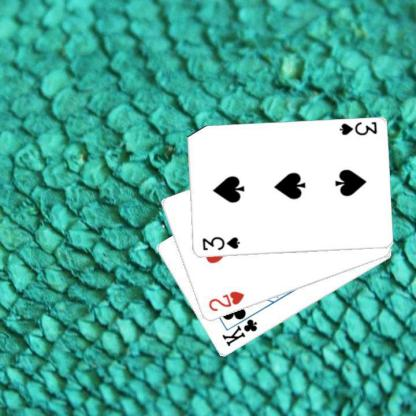2H: (206, 289, 246, 313)
3S: (199, 234, 241, 252), (337, 120, 378, 137)
KC: (219, 310, 258, 348)
